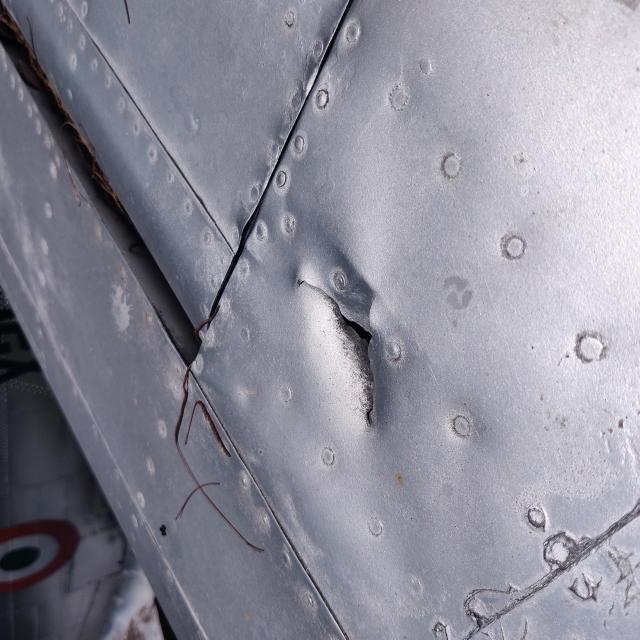crack: (175, 269, 416, 410)
